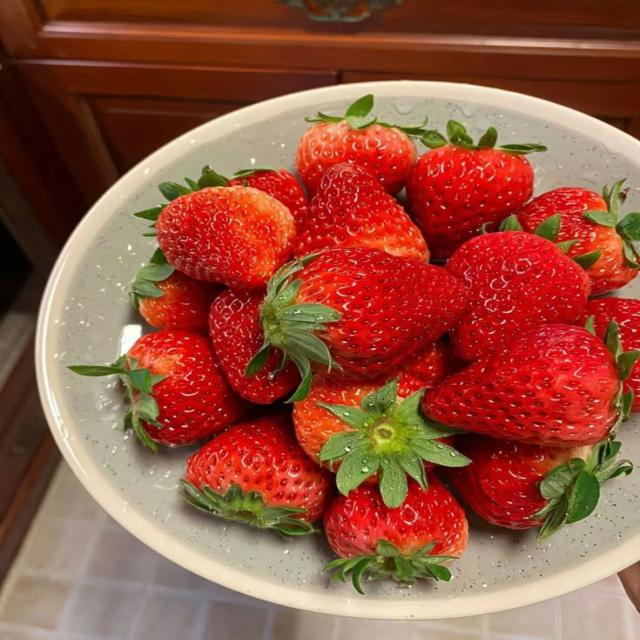strawberry: (250, 248, 467, 400), (424, 325, 639, 446), (294, 378, 469, 507), (69, 331, 246, 451), (407, 121, 545, 260), (449, 435, 633, 539), (446, 231, 590, 360), (182, 414, 333, 534), (324, 477, 467, 592), (155, 186, 296, 288), (517, 180, 639, 294), (295, 164, 428, 261), (297, 95, 424, 195), (209, 290, 299, 404), (294, 372, 386, 459), (130, 250, 220, 332), (222, 167, 308, 224), (398, 340, 464, 396), (579, 298, 639, 349)
